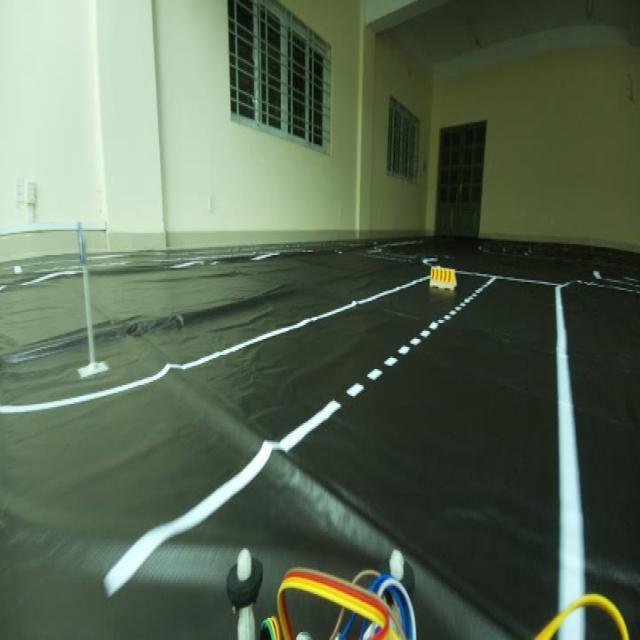onewayroad: (74, 220, 88, 265)
roadblock: (426, 265, 460, 289)
